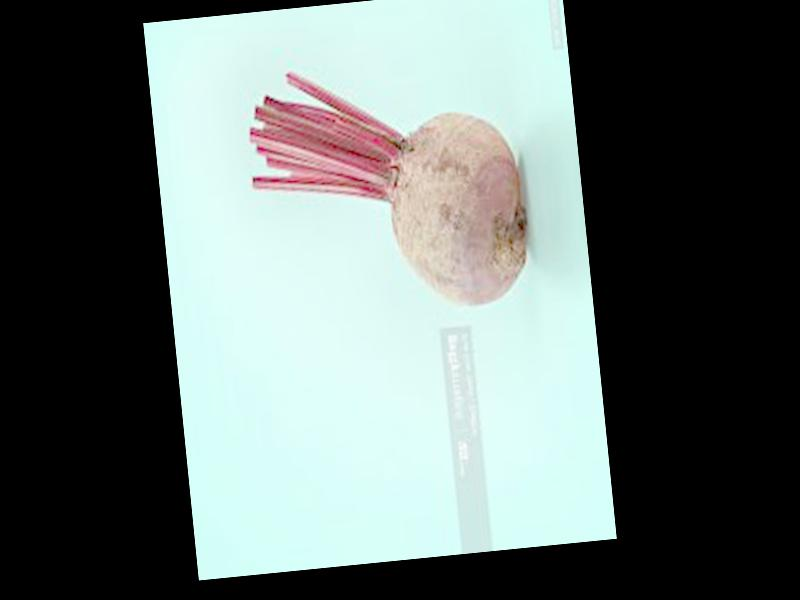Beet: (244, 51, 535, 326)
